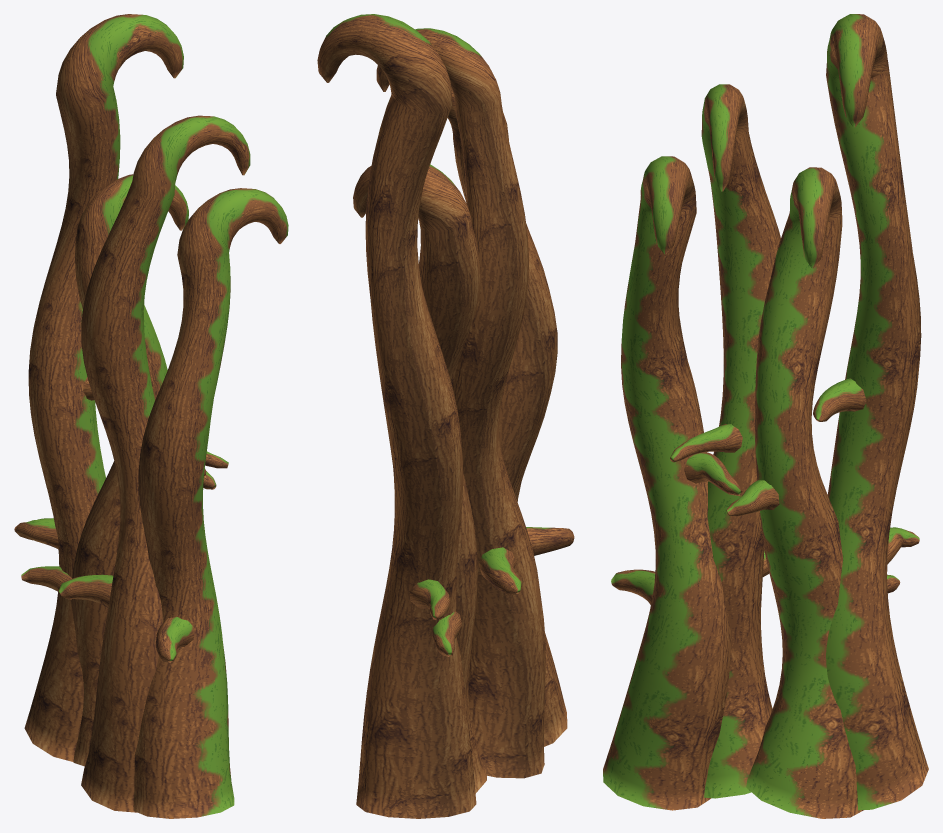
Rendered from grip_roots.glb.
3 views of the same model, side by side, from view 1: azimuth 30°, elevation 25°; view 2: azimuth 150°, elevation 25°; view 3: azimuth 270°, elevation 25° (orthographic). The views are drawn at different scales.
Parts seen in each view (by area): view 1: grip_root_3, grip_root_2, grip_root_0, grip_root_1; view 2: grip_root_0, grip_root_2, grip_root_1, grip_root_3; view 3: grip_root_0, grip_root_3, grip_root_1, grip_root_2.
Boxes of the visible parts, left/top/right/bottom form: grip_root_3: left=133, top=188, right=288, bottom=818; grip_root_2: left=59, top=115, right=250, bottom=812; grip_root_0: left=14, top=14, right=183, bottom=761; grip_root_1: left=21, top=174, right=216, bottom=766; grip_root_0: left=317, top=14, right=476, bottom=818; grip_root_2: left=376, top=28, right=545, bottom=778; grip_root_1: left=353, top=164, right=486, bottom=793; grip_root_3: left=447, top=88, right=574, bottom=746; grip_root_0: left=813, top=14, right=928, bottom=810; grip_root_3: left=603, top=156, right=742, bottom=810; grip_root_1: left=726, top=167, right=900, bottom=818; grip_root_2: left=670, top=84, right=780, bottom=798.
Size of the model in its own units: 3.3 by 13.23 by 4.94.
1 material, 1 textured.
